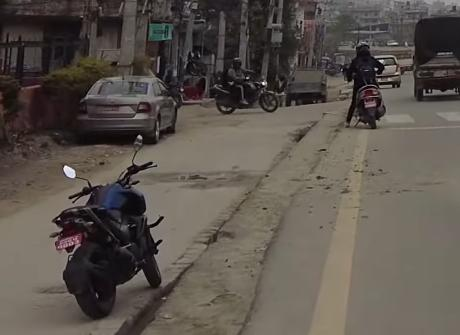bike: (46, 132, 167, 320), (208, 74, 281, 118)
